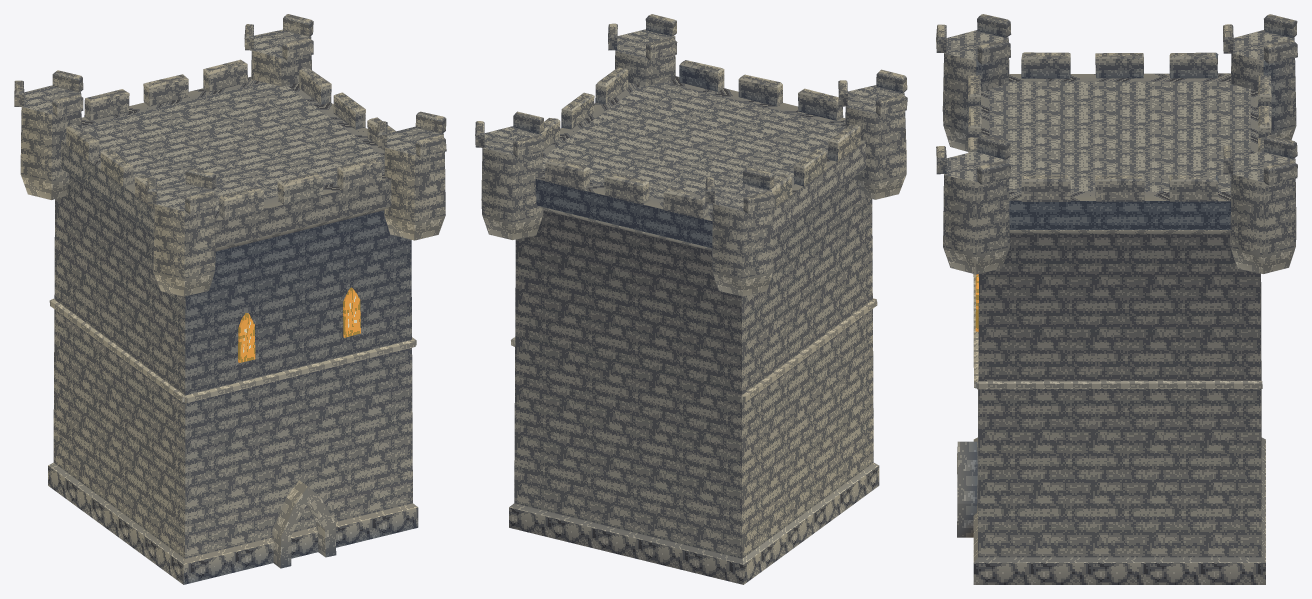
Rendered from cst.keep__crenellated.glb.
3 renders of one model, left to right at view 1: azimuth 30°, elevation 25°; view 2: azimuth 150°, elevation 25°; view 3: azimuth 270°, elevation 25°, orthographic. The views are drawn at different scales.
Visible parts, largest first — view 1: kit_walls, kit_top, kit_detail; view 2: kit_walls, kit_top, kit_detail; view 3: kit_walls, kit_top, kit_detail.
Boxes of the visible parts, x1,y1,x2,y2 form: kit_walls: [48, 174, 418, 584]; kit_top: [14, 14, 446, 296]; kit_detail: [49, 287, 416, 568]; kit_walls: [509, 174, 879, 584]; kit_top: [475, 14, 907, 296]; kit_detail: [511, 298, 877, 402]; kit_walls: [973, 233, 1265, 584]; kit_top: [936, 14, 1297, 274]; kit_detail: [957, 274, 1262, 537].
Size of the model in its own units: 13.13 by 16.8 by 12.75.
Materials: 5 (5 with a texture image).
